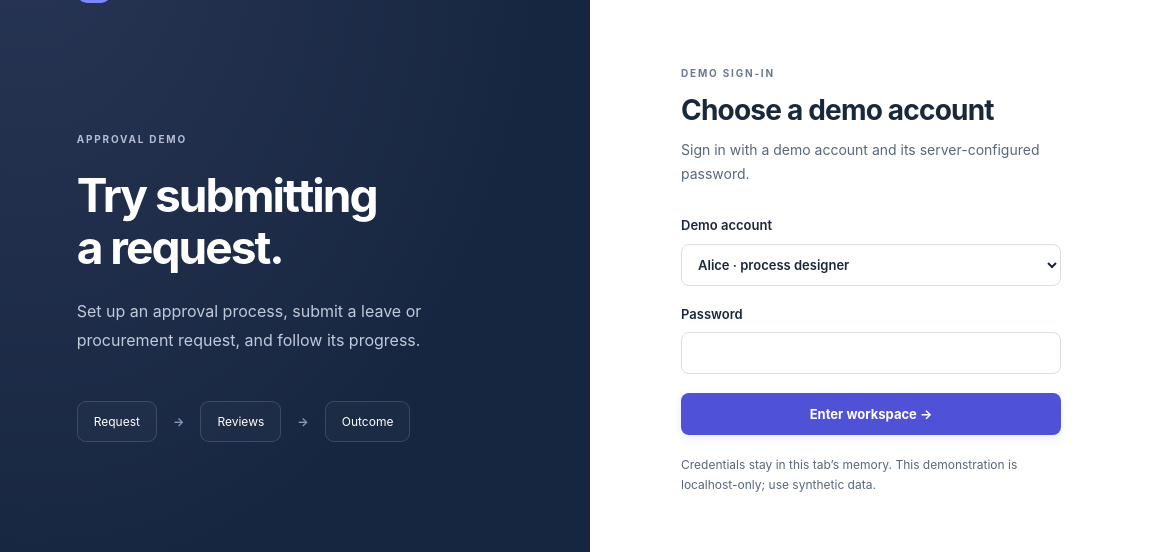
Test: paginated member worklists › reconciles partial votes into handled with correct pending overlap
Type "test-only" into the password field labelled "Password" at (871, 353), box top-left (681, 332), bottom-right (1061, 374)
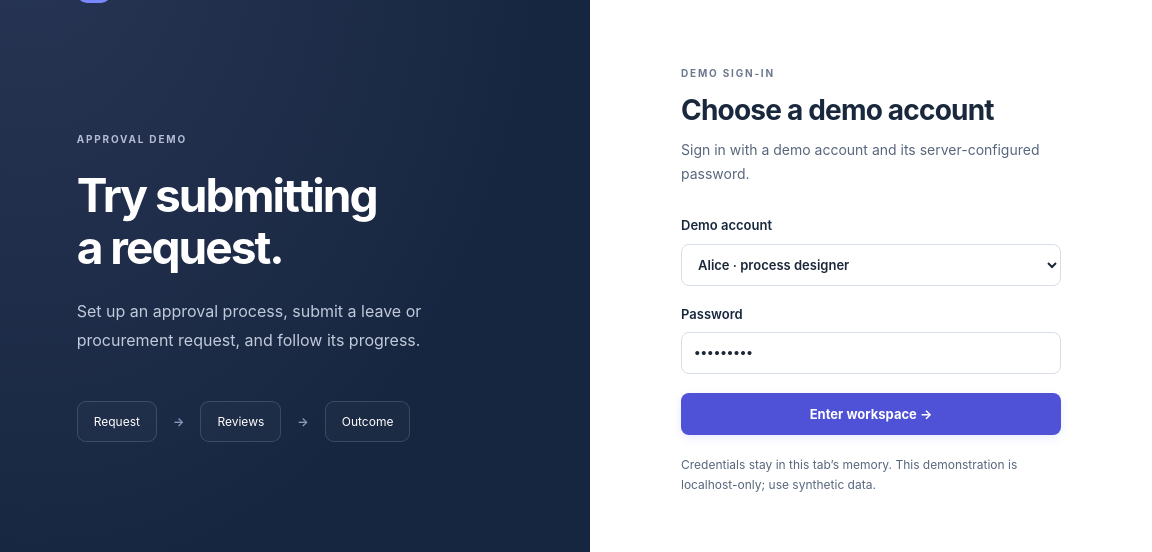
Submit the form with class "login-form", box top-left (681, 66), bottom-right (1061, 508)
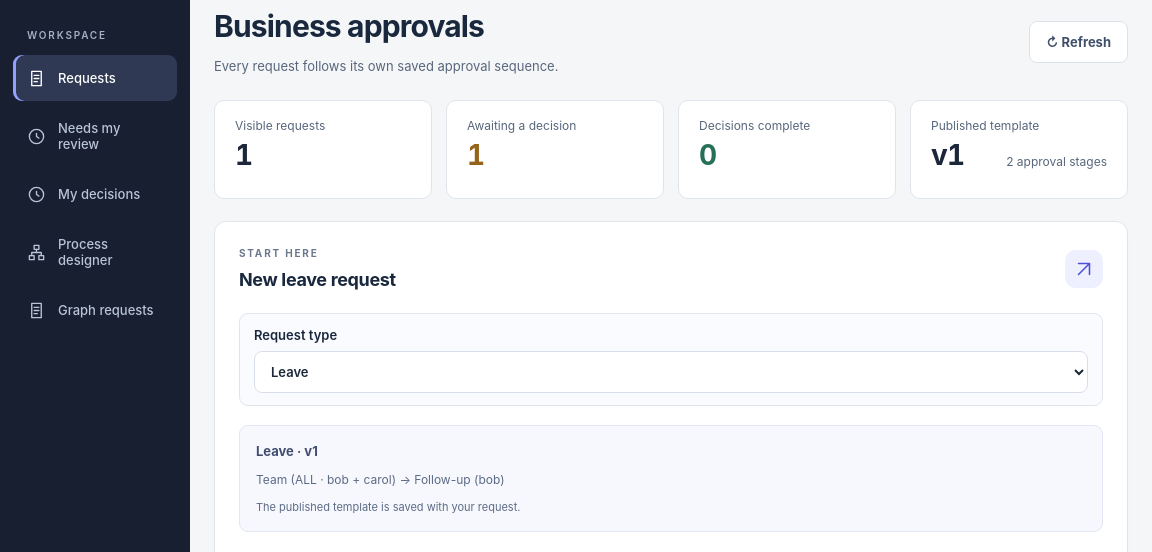
Click the button "Needs my review" at (95, 136), box top-left (13, 107), bottom-right (177, 165)
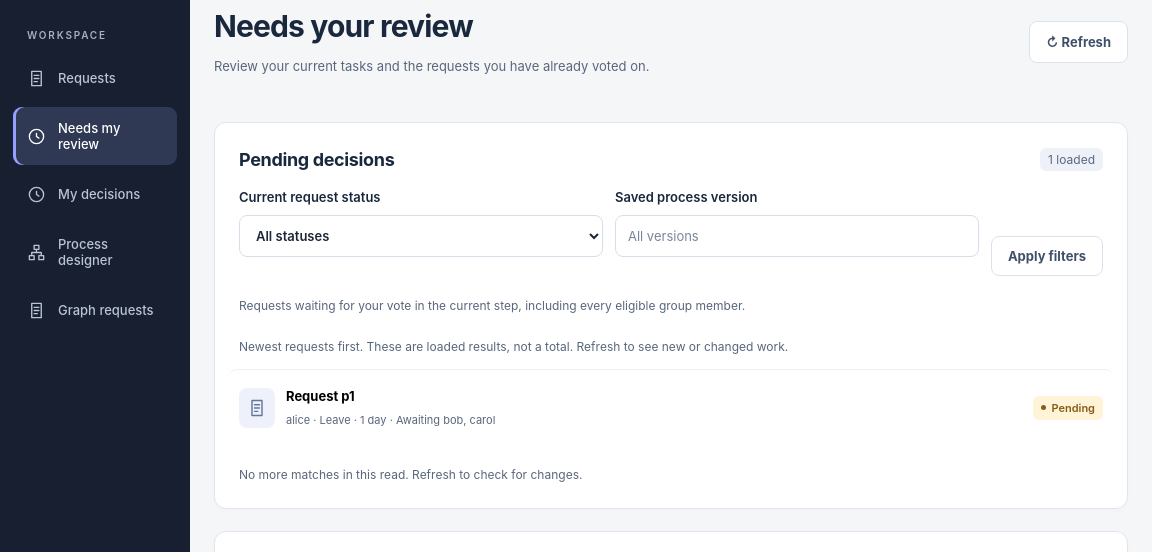
Click the button with class "request-item" at (257, 408), box top-left (229, 369), bottom-right (1113, 445)
(page scrolled)
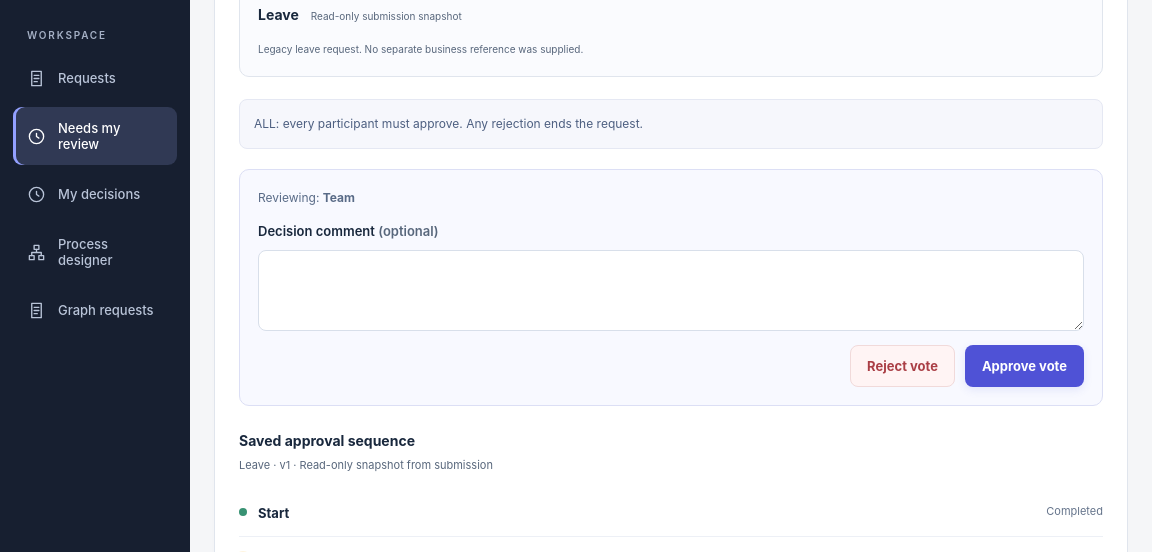
Submit the form with class "decision-form", box top-left (239, 169), bottom-right (1103, 406)
(page scrolled)
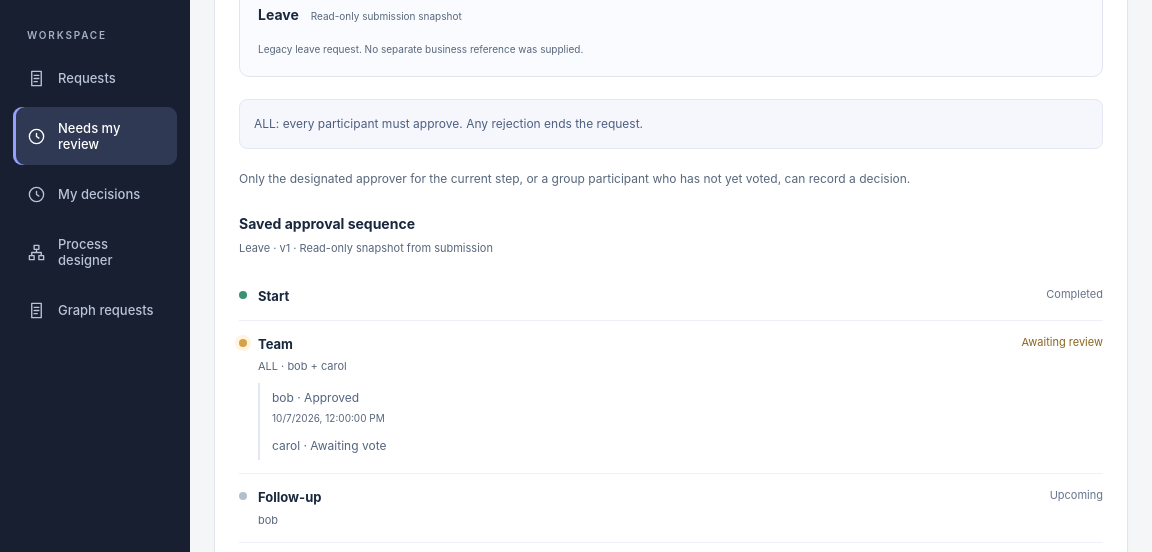
Click the button "My decisions" at (95, 194), box top-left (13, 171), bottom-right (177, 217)
(page scrolled)
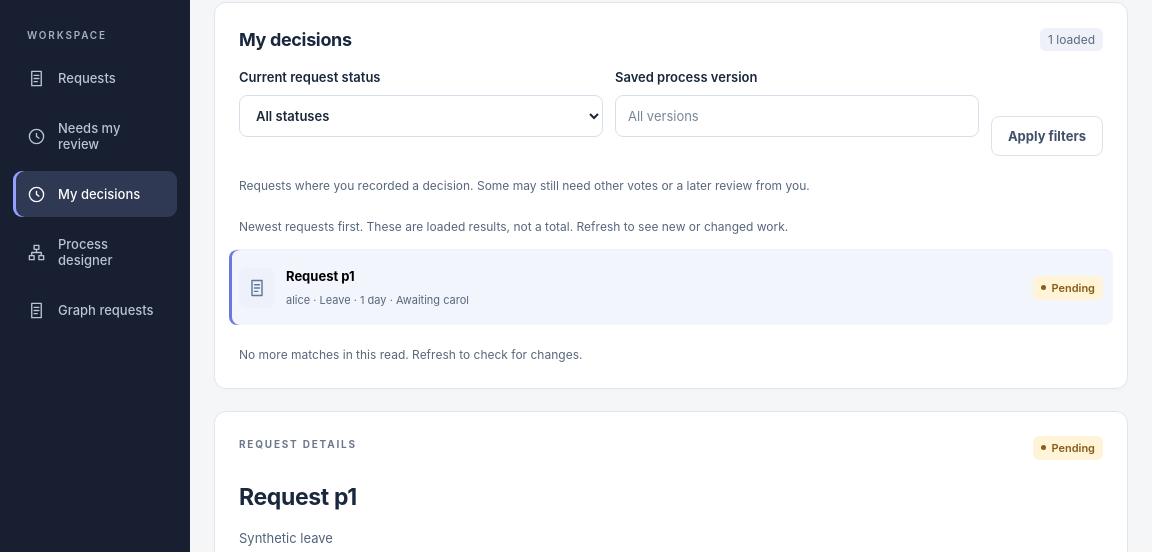
Expected: the text with class "status" below "1 loaded" reads "pending", top-left (1051, 280), bottom-right (1095, 294)
Expected: the button with class "request-item" shows "p1", top-left (229, 249), bottom-right (1113, 325)
